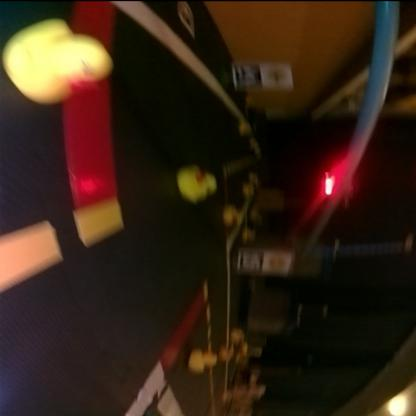Duckie: (4, 17, 112, 103), (178, 166, 218, 202), (189, 348, 217, 374)
Intersection sign: (265, 65, 293, 88)
QR code: (234, 64, 262, 89), (238, 248, 263, 274), (178, 2, 196, 36)
Traffic light: (320, 173, 350, 197)
